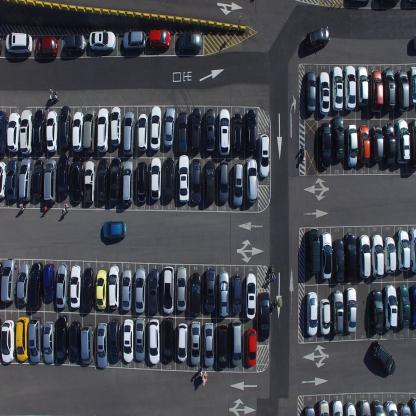car: (372, 340, 396, 376), (0, 258, 17, 304), (28, 315, 43, 363), (0, 318, 15, 364), (395, 119, 410, 165), (29, 261, 43, 310), (305, 25, 330, 52), (42, 157, 56, 205), (15, 314, 29, 362), (19, 108, 33, 155), (307, 226, 320, 276), (5, 31, 32, 55), (16, 262, 31, 305), (82, 108, 96, 154), (70, 155, 83, 204), (344, 232, 357, 281), (320, 231, 333, 280), (369, 68, 383, 113), (343, 64, 356, 112), (331, 114, 344, 162), (384, 283, 397, 331), (89, 29, 116, 52), (396, 228, 410, 272), (370, 234, 384, 278), (56, 313, 68, 364), (149, 105, 162, 152), (96, 157, 109, 204), (216, 323, 229, 370), (358, 233, 371, 280), (162, 265, 174, 315), (258, 291, 270, 341), (148, 316, 160, 366), (245, 158, 258, 204), (122, 110, 135, 156), (19, 156, 32, 202), (202, 322, 215, 368), (108, 318, 121, 364), (331, 289, 344, 335), (305, 290, 318, 336), (218, 107, 230, 156), (80, 324, 94, 366), (96, 107, 109, 152), (58, 104, 71, 149), (56, 263, 69, 308), (317, 70, 330, 115), (383, 67, 396, 112), (397, 283, 410, 328), (109, 155, 121, 203), (122, 28, 146, 52), (82, 266, 94, 314), (134, 266, 146, 314), (148, 268, 160, 316), (218, 270, 230, 318), (331, 64, 343, 112), (136, 160, 149, 204), (245, 107, 257, 154), (204, 267, 216, 314), (230, 319, 242, 366), (162, 317, 174, 364), (318, 122, 330, 169), (371, 287, 383, 334), (396, 68, 409, 111), (345, 124, 358, 167), (258, 133, 270, 179), (190, 158, 202, 204), (33, 108, 45, 154), (148, 27, 172, 50), (108, 264, 120, 310), (43, 319, 55, 365), (344, 286, 356, 332), (163, 106, 176, 148), (32, 158, 45, 200), (95, 268, 108, 310), (150, 156, 162, 201), (58, 153, 70, 198), (69, 319, 81, 364), (178, 154, 189, 203), (7, 111, 20, 152), (382, 236, 396, 274), (204, 160, 216, 204), (46, 109, 58, 153), (178, 31, 202, 53), (121, 268, 133, 312), (245, 272, 256, 320), (96, 321, 107, 369), (230, 274, 243, 314), (371, 124, 384, 164), (204, 107, 215, 154), (122, 158, 133, 205), (83, 160, 95, 203), (35, 36, 58, 58), (176, 266, 187, 312), (190, 271, 201, 317), (190, 320, 201, 366), (6, 158, 18, 200), (245, 326, 257, 368), (102, 220, 127, 240), (232, 162, 243, 207), (384, 121, 395, 166), (318, 298, 331, 336), (356, 65, 368, 106), (218, 160, 229, 204), (163, 156, 174, 200), (70, 264, 81, 308), (305, 70, 316, 114), (333, 238, 344, 282), (43, 262, 55, 302), (176, 322, 188, 362), (358, 124, 370, 164), (232, 112, 243, 155), (72, 110, 83, 153), (137, 112, 148, 154), (190, 107, 200, 153), (110, 106, 121, 146), (63, 34, 86, 53), (178, 111, 188, 154), (0, 108, 8, 158), (408, 119, 416, 168), (408, 66, 416, 106), (410, 226, 416, 274), (0, 159, 7, 200), (410, 285, 416, 329), (357, 398, 370, 416), (331, 398, 344, 416), (316, 398, 329, 416), (383, 400, 398, 415), (371, 400, 384, 415), (344, 402, 356, 416), (398, 403, 411, 415), (409, 395, 416, 415), (303, 405, 315, 415), (412, 31, 416, 53), (0, 34, 2, 53)
